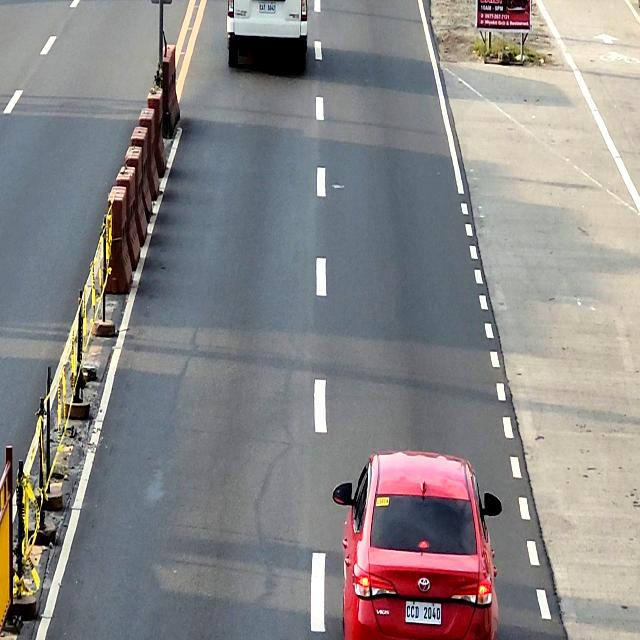Car: (333, 449, 502, 640), (226, 0, 308, 67)
License-Plate: (406, 601, 442, 624), (259, 2, 276, 14)
